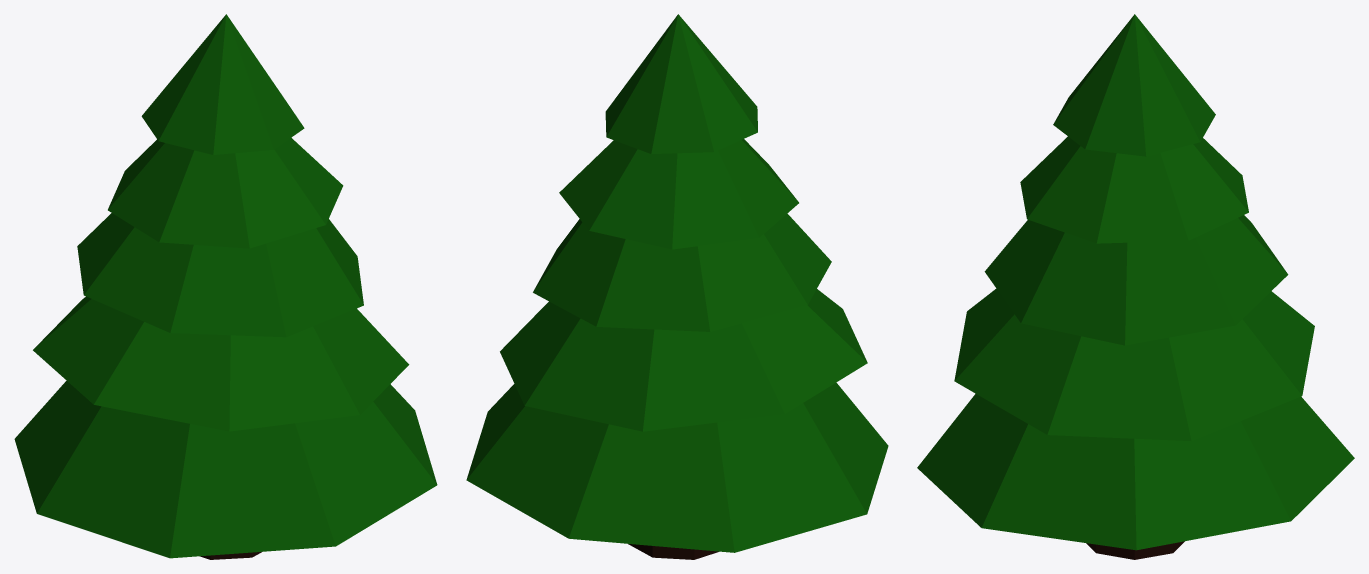
The model's file is pine_2.obj.
3 views of the same model, side by side, from view 1: azimuth 30°, elevation 25°; view 2: azimuth 150°, elevation 25°; view 3: azimuth 270°, elevation 25° (orthographic).
Parts seen in each view (by area): view 1: green; view 2: green, stump; view 3: green, stump.
Boxes of the visible parts, bbox=[...] form: green: bbox=[14, 14, 437, 558]; green: bbox=[466, 14, 888, 552]; stump: bbox=[628, 544, 718, 559]; green: bbox=[917, 14, 1354, 550]; stump: bbox=[1086, 541, 1184, 559].
Size of the model in its own units: 8 by 10.55 by 8.
